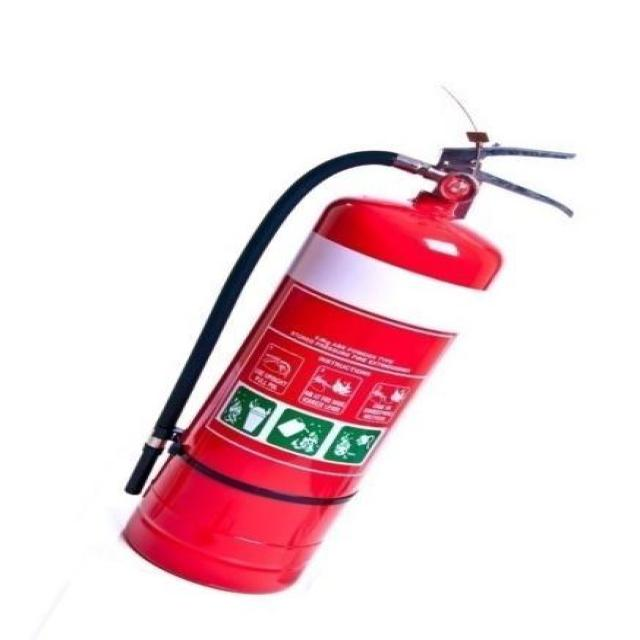fire_extinguisher: (107, 128, 584, 600)
